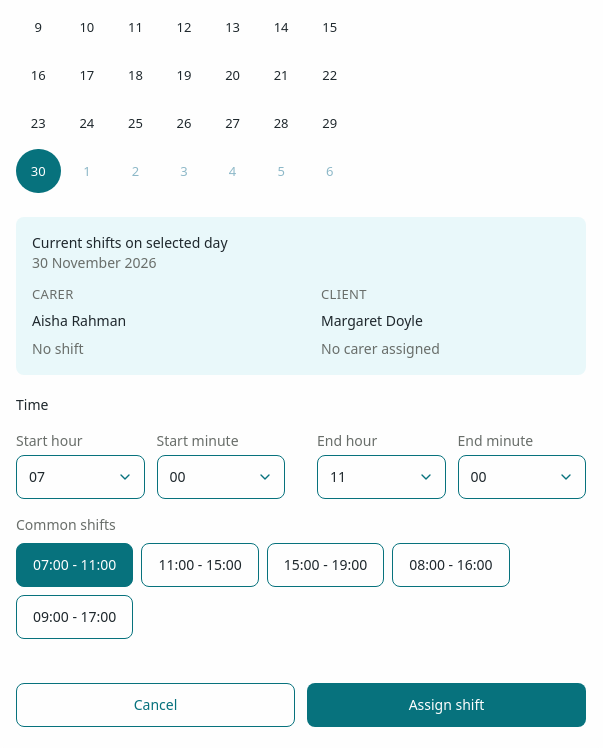
Test case: Admin Manage › [ADM-UI-02][AC-03] a shift assigned in this session appears in both lists
The width and height of the screenshot is (603, 748).
(page scrolled)
Click the button "Assign shift": (446, 705) [307,683,586,727]
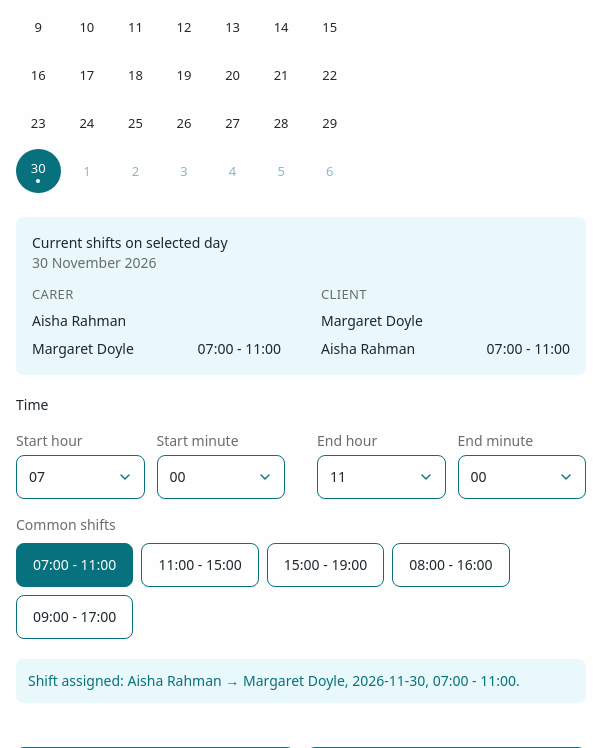
Check: the list named "Aisha Rahman's shifts" reads "Margaret Doyle 07:00 - 11:00", box [32,339,281,359]
Check: the list named "Margaret Doyle's shifts" reads "Aisha Rahman 07:00 - 11:00", box [321,339,570,359]
